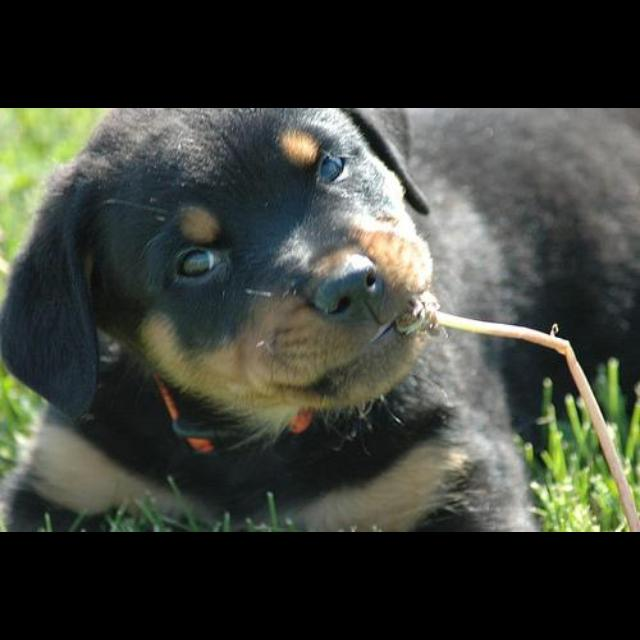rottweiler: (1, 110, 640, 533)
